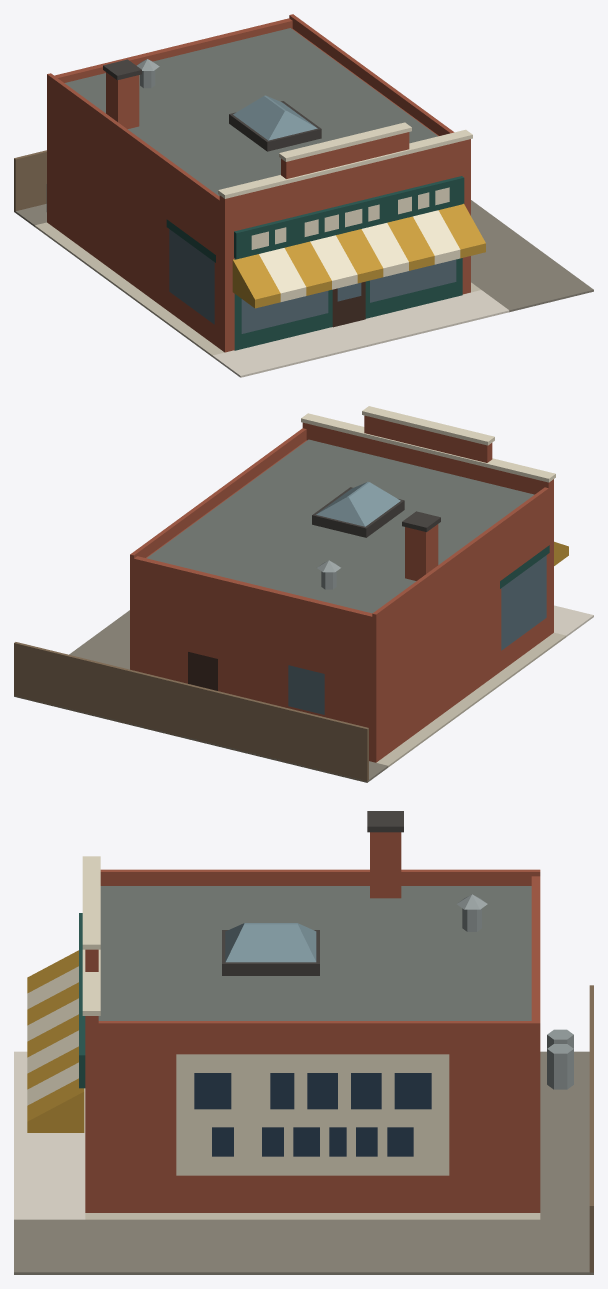
File: shop.glb
The picture shows the model from 3 angles, top to bottom: view 1: azimuth 30°, elevation 25°; view 2: azimuth 150°, elevation 25°; view 3: azimuth 270°, elevation 25°; orthographic projection. The views are drawn at different scales.
Visible parts, largest first — view 1: shop; view 2: shop; view 3: shop.
Boxes of the visible parts, bbox=[...] form: shop: bbox=[14, 14, 593, 377]; shop: bbox=[14, 406, 593, 782]; shop: bbox=[14, 811, 593, 1274].
Bounding box in the file's own units: 18 × 9.6 × 20.
